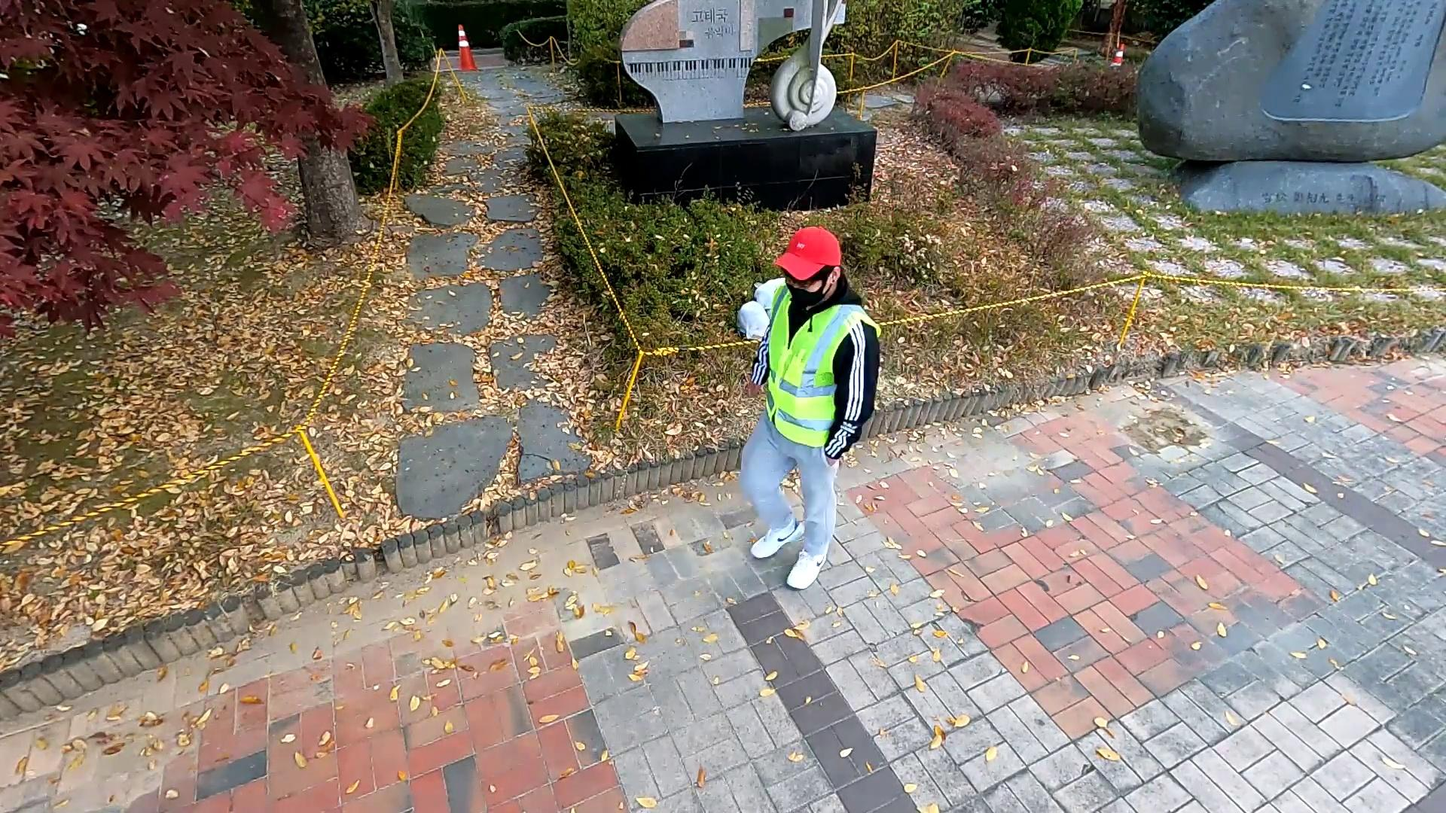person: (735, 226, 885, 592)
trash: (736, 292, 778, 345), (752, 274, 794, 318)
